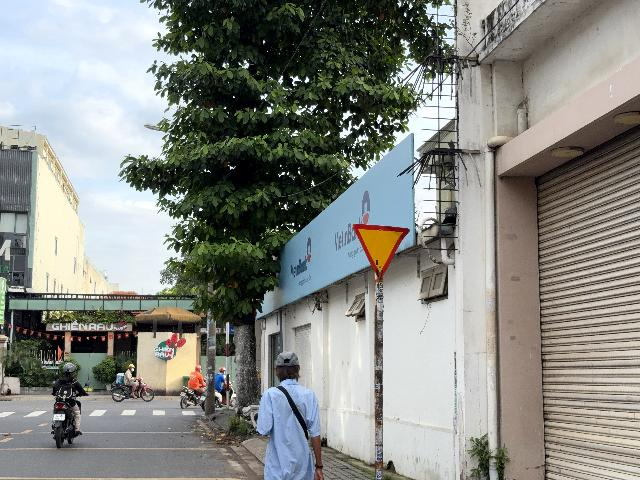giao-nhau-voi-duong-uu-tien: (352, 223, 410, 279)
